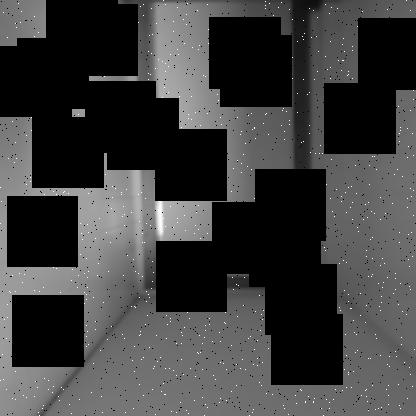Porte: (132, 0, 314, 291)
